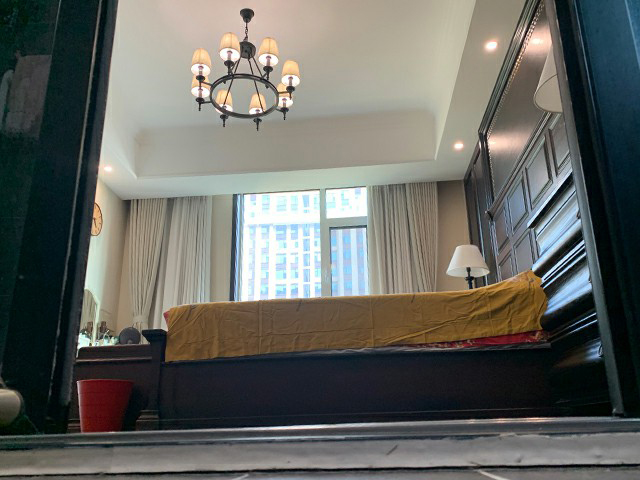bed: (134, 268, 552, 432)
cabinet: (526, 164, 613, 417)
trashcan: (75, 377, 132, 433)
